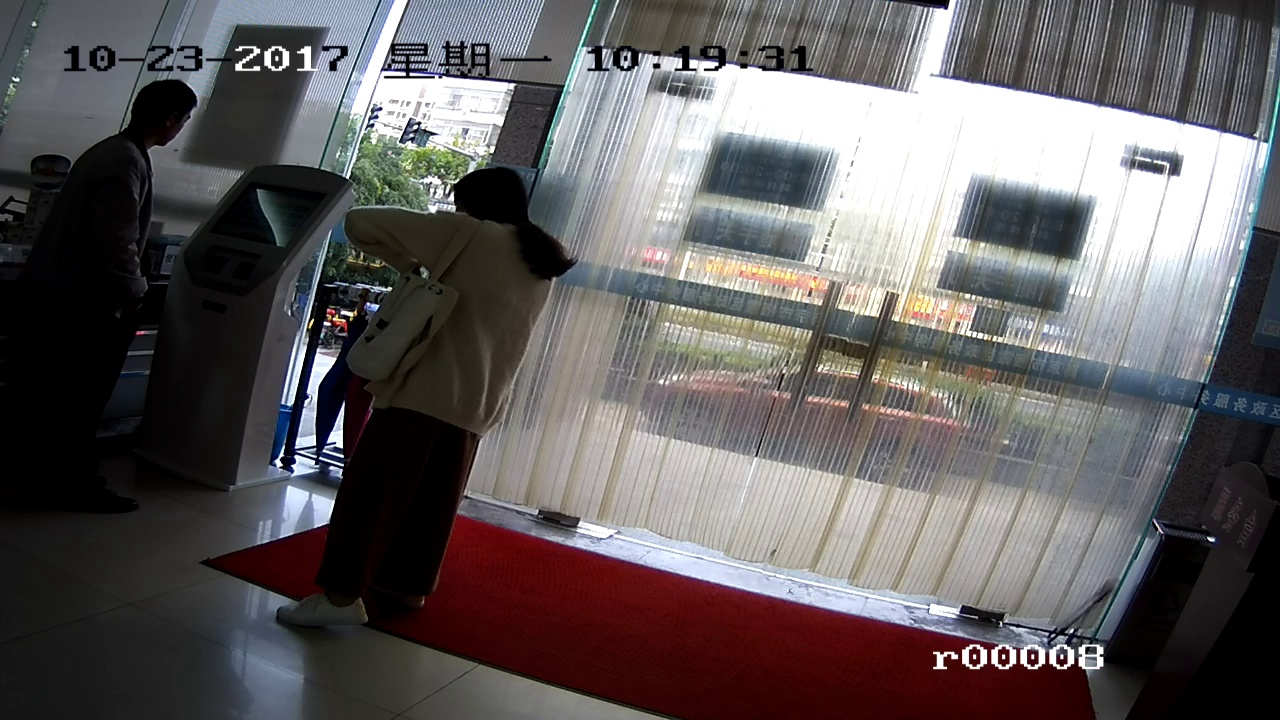monitor: (222, 179, 319, 253)
person: (327, 151, 538, 628), (35, 63, 199, 467)
